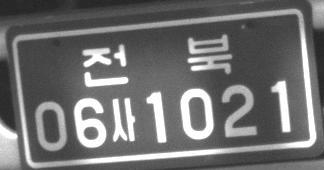0: (178, 87, 214, 140), (34, 99, 67, 151)
1: (266, 80, 299, 132), (142, 90, 172, 143)
2: (221, 83, 257, 138)
6: (72, 97, 107, 148)
사: (109, 97, 136, 143)
전북_D: (80, 33, 234, 88)
